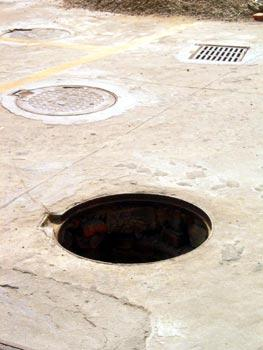lose: (41, 175, 216, 270)
